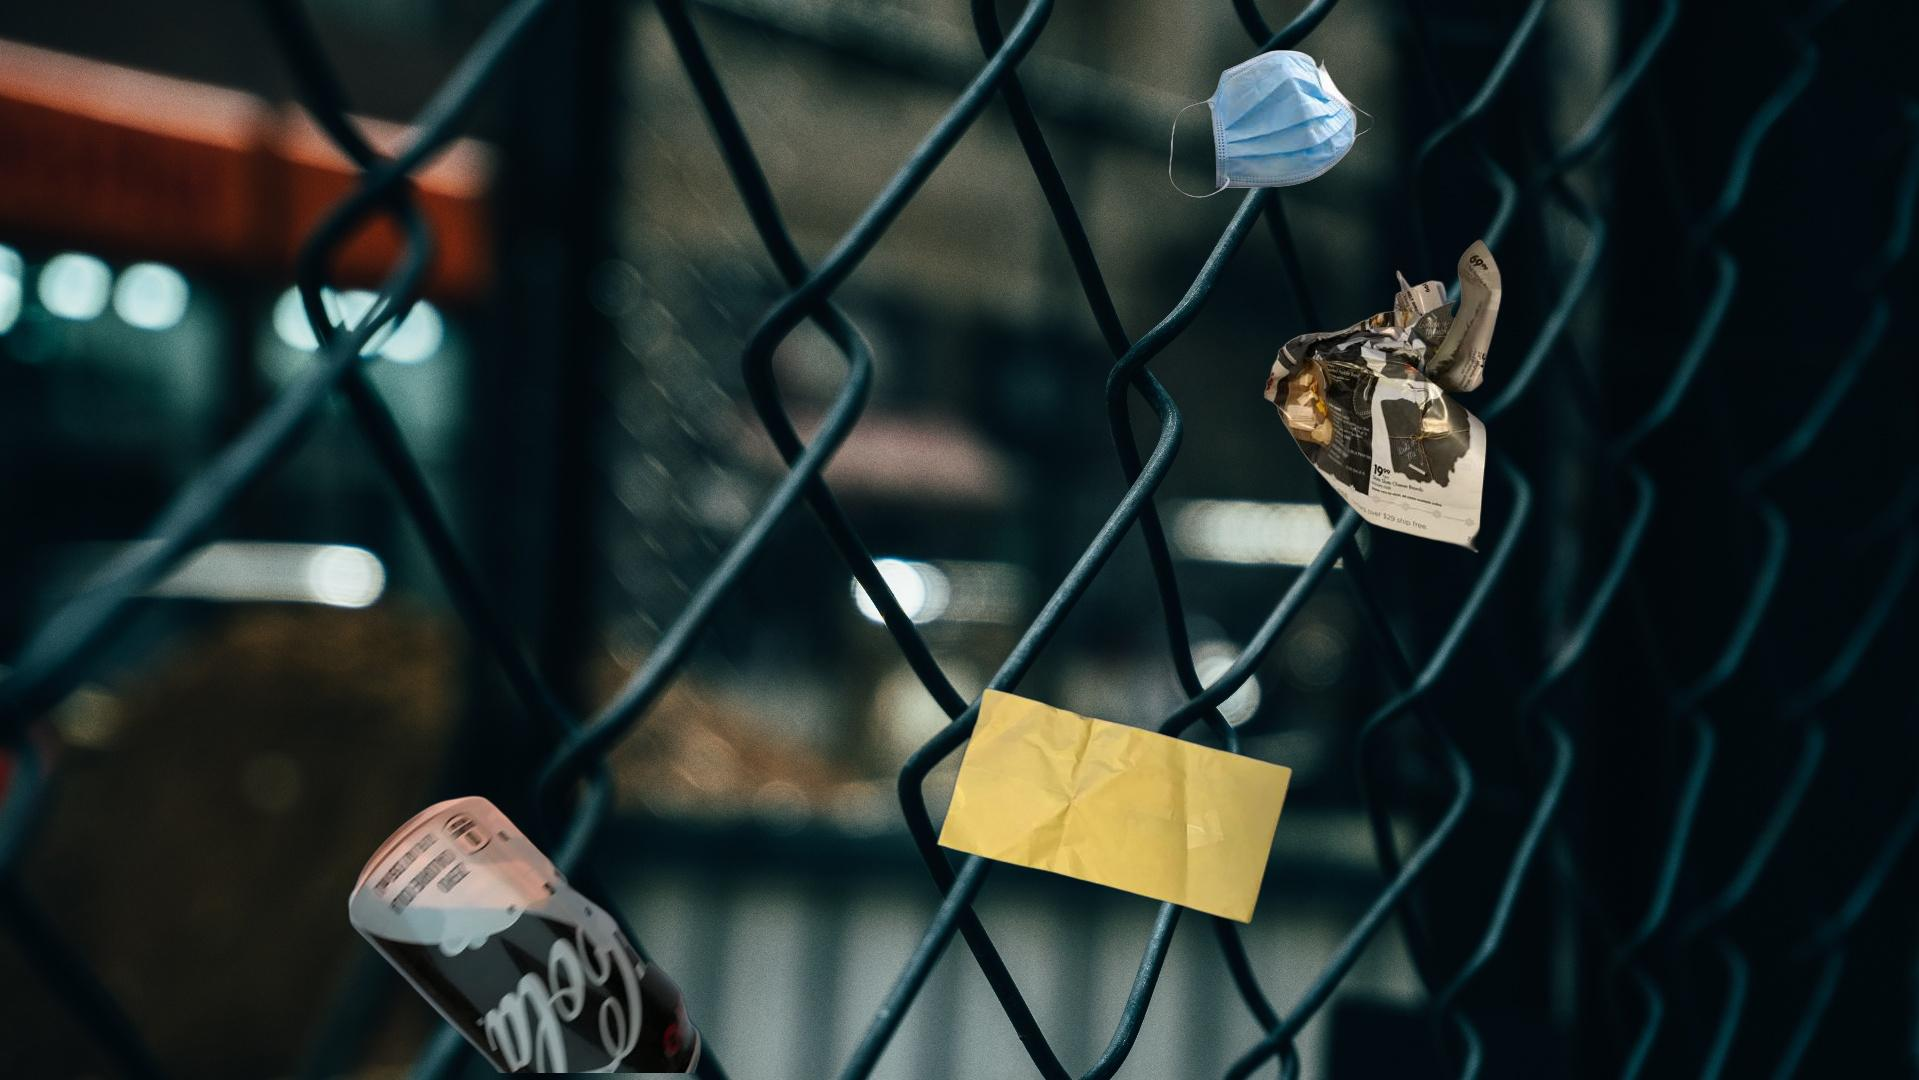metal-cans: (320, 793, 706, 1073)
paper: (933, 684, 1298, 927), (1259, 237, 1506, 555)
trash: (1166, 47, 1379, 200)
